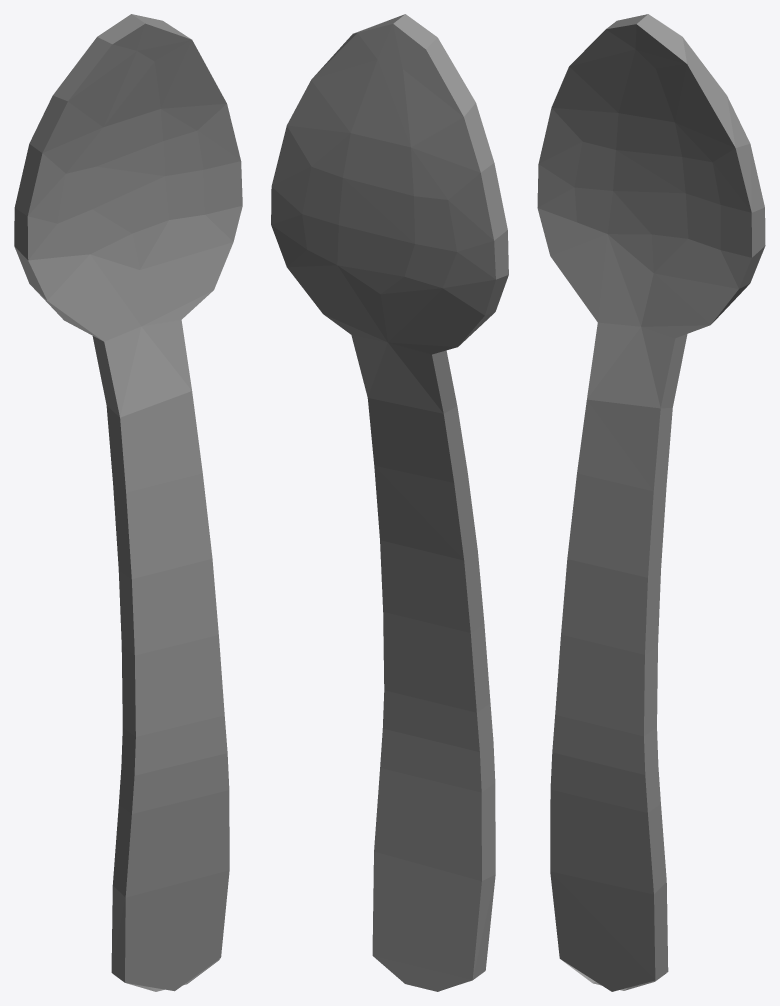
File: Spoon.fbx
3 views of the same model, side by side, from view 1: azimuth 30°, elevation 25°; view 2: azimuth 150°, elevation 25°; view 3: azimuth 330°, elevation 25° (orthographic). The views are drawn at different scales.
Parts seen in each view (by area): view 1: 0.Spoon; view 2: 0.Spoon; view 3: 0.Spoon.
Part boxes in pixels (x1,y1,x2,y2): 0.Spoon: (14,14,242,991); 0.Spoon: (271,14,508,991); 0.Spoon: (537,14,765,991).
Bounding box in the file's own units: 35.32 × 148 × 18.33.
